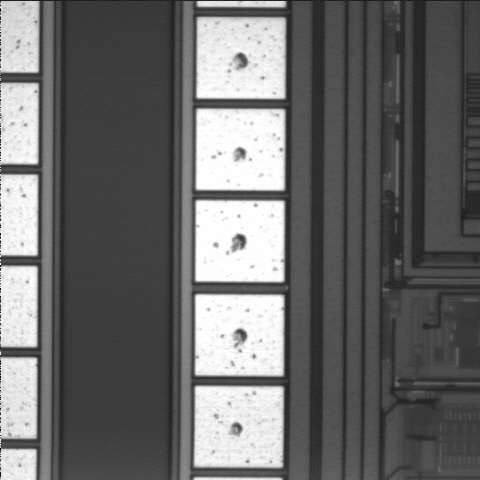pad: (195, 200, 285, 282), (196, 17, 285, 99), (196, 109, 285, 191), (195, 294, 284, 376), (194, 386, 283, 468)
